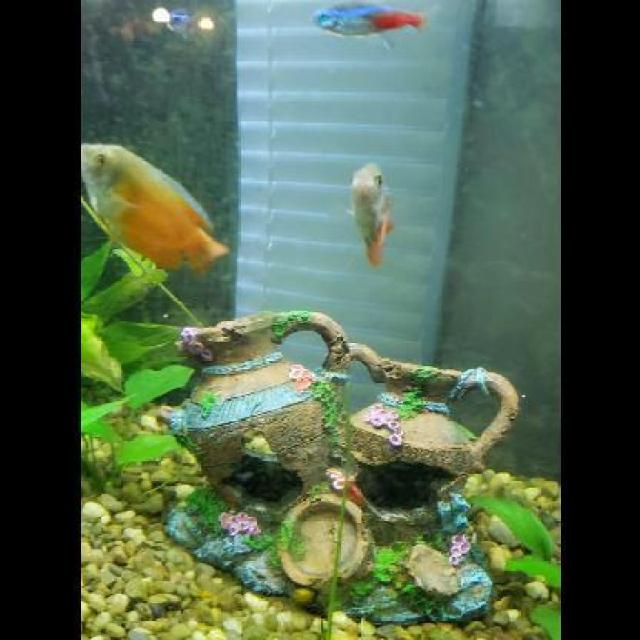Gourami: (80, 138, 228, 271)
